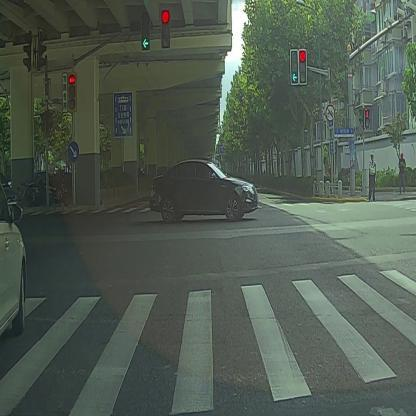Red Light: (68, 72, 77, 112), (162, 11, 171, 48), (298, 48, 307, 84)
